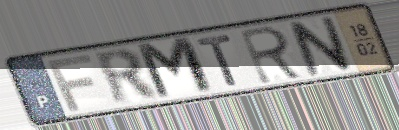F: (45, 52, 97, 113)
M: (132, 34, 219, 103)
N: (286, 14, 356, 79)
R: (90, 47, 164, 108), (236, 23, 307, 86)
T: (193, 32, 242, 88)
